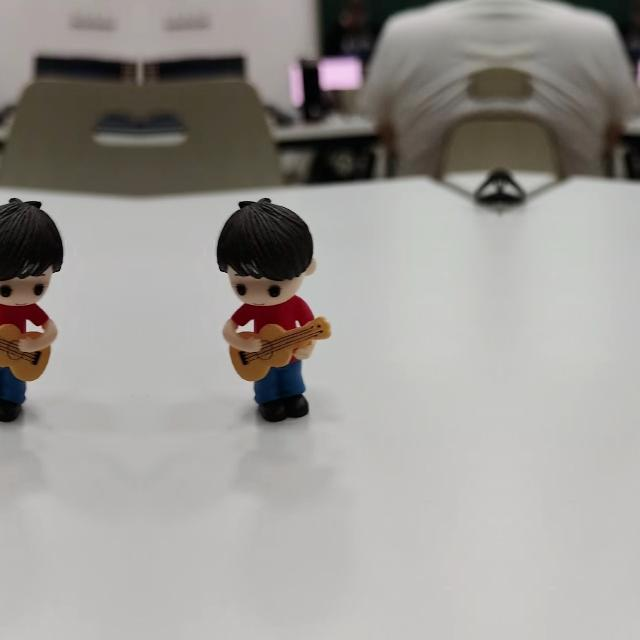man cloth: (232, 298, 314, 332), (0, 297, 48, 332)
man head: (217, 196, 317, 306), (0, 196, 63, 306)
trousers: (253, 358, 307, 427), (0, 357, 27, 426)
